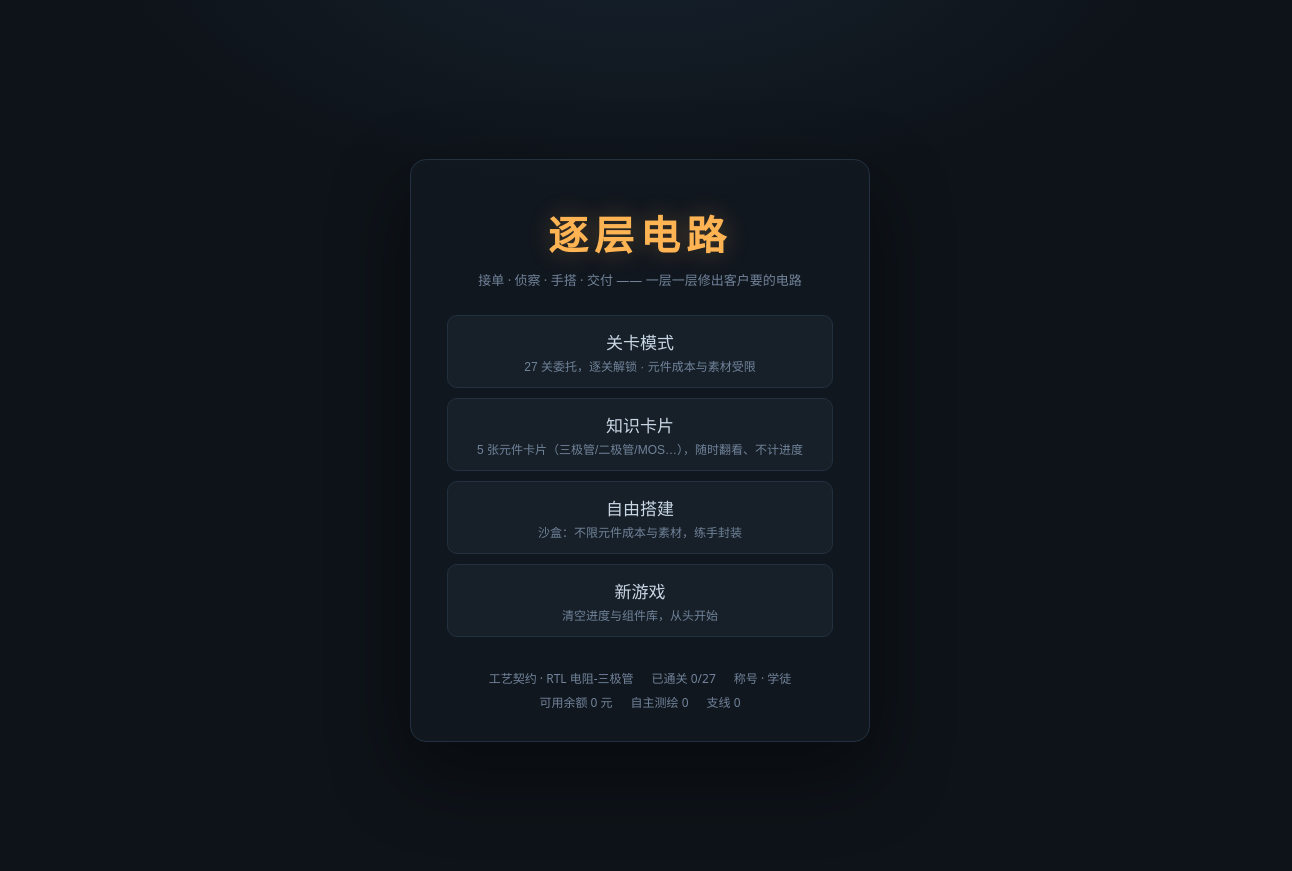
Test: 封装前自测 › 选择继续封装就照常入库
The image size is (1292, 871).
What coordinates should you click on to do the following:
click the button "自由搭建 沙盒：不限元件成本与素材，练手封装"
I would click on:
 (640, 517)
Its box is [447,480,833,554].
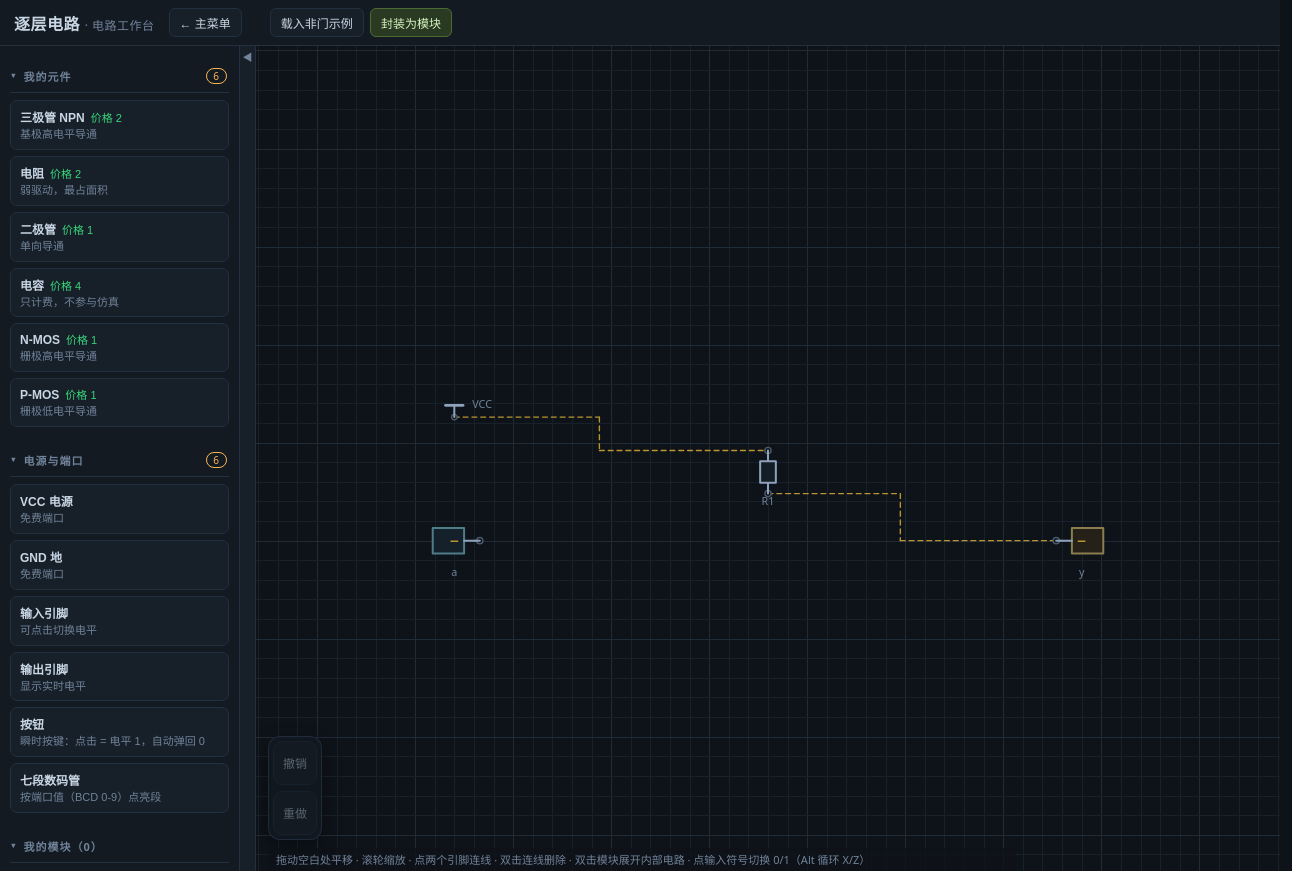
What coordinates should you click on to do the following:
click the button "封装为模块"
I would click on:
 (411, 22)
Its box is [370,8,452,37].
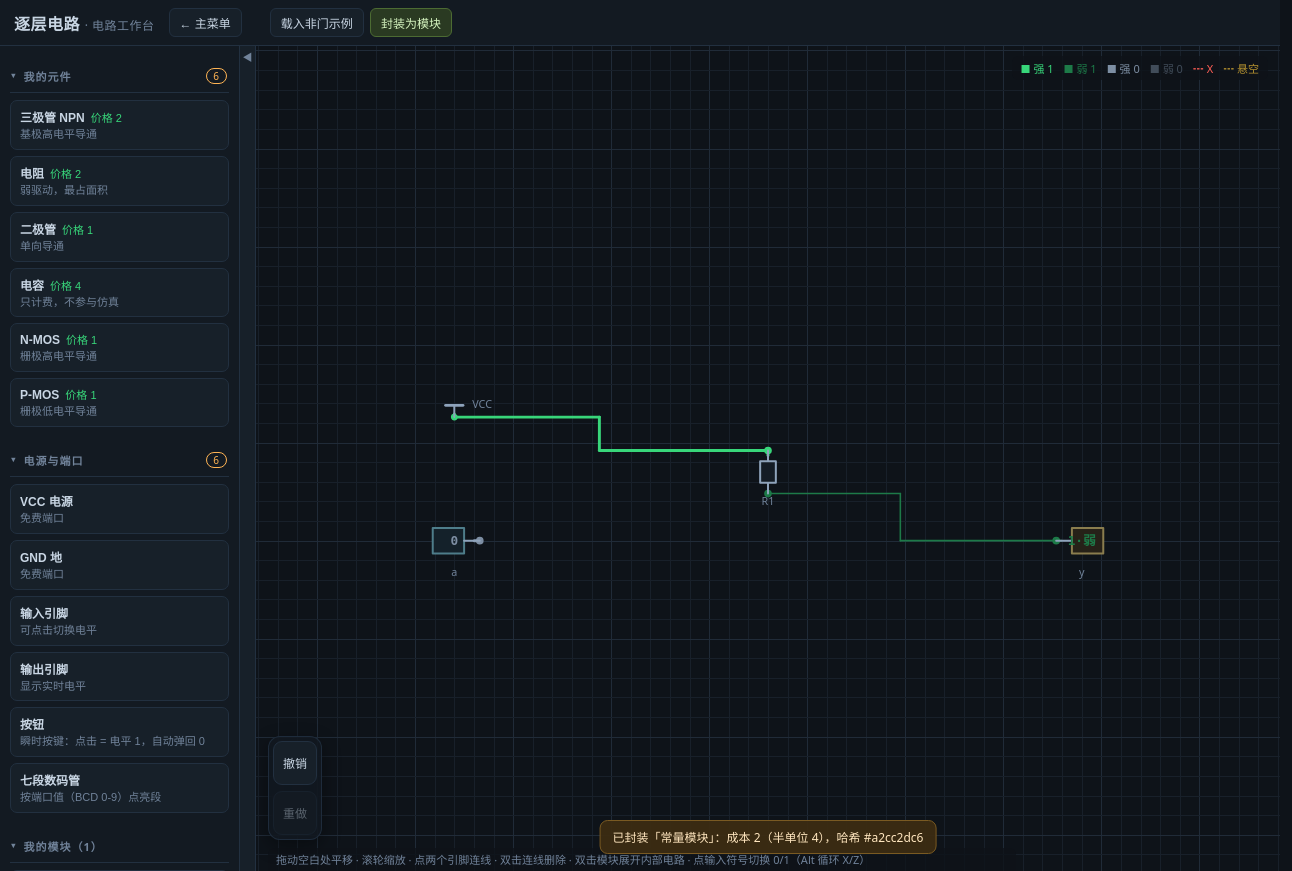
Check: the button "已封装「常量模块」：成本 2（半单位 4），哈希 #a2cc2dc6" is shown, box [600,820,936,854]
